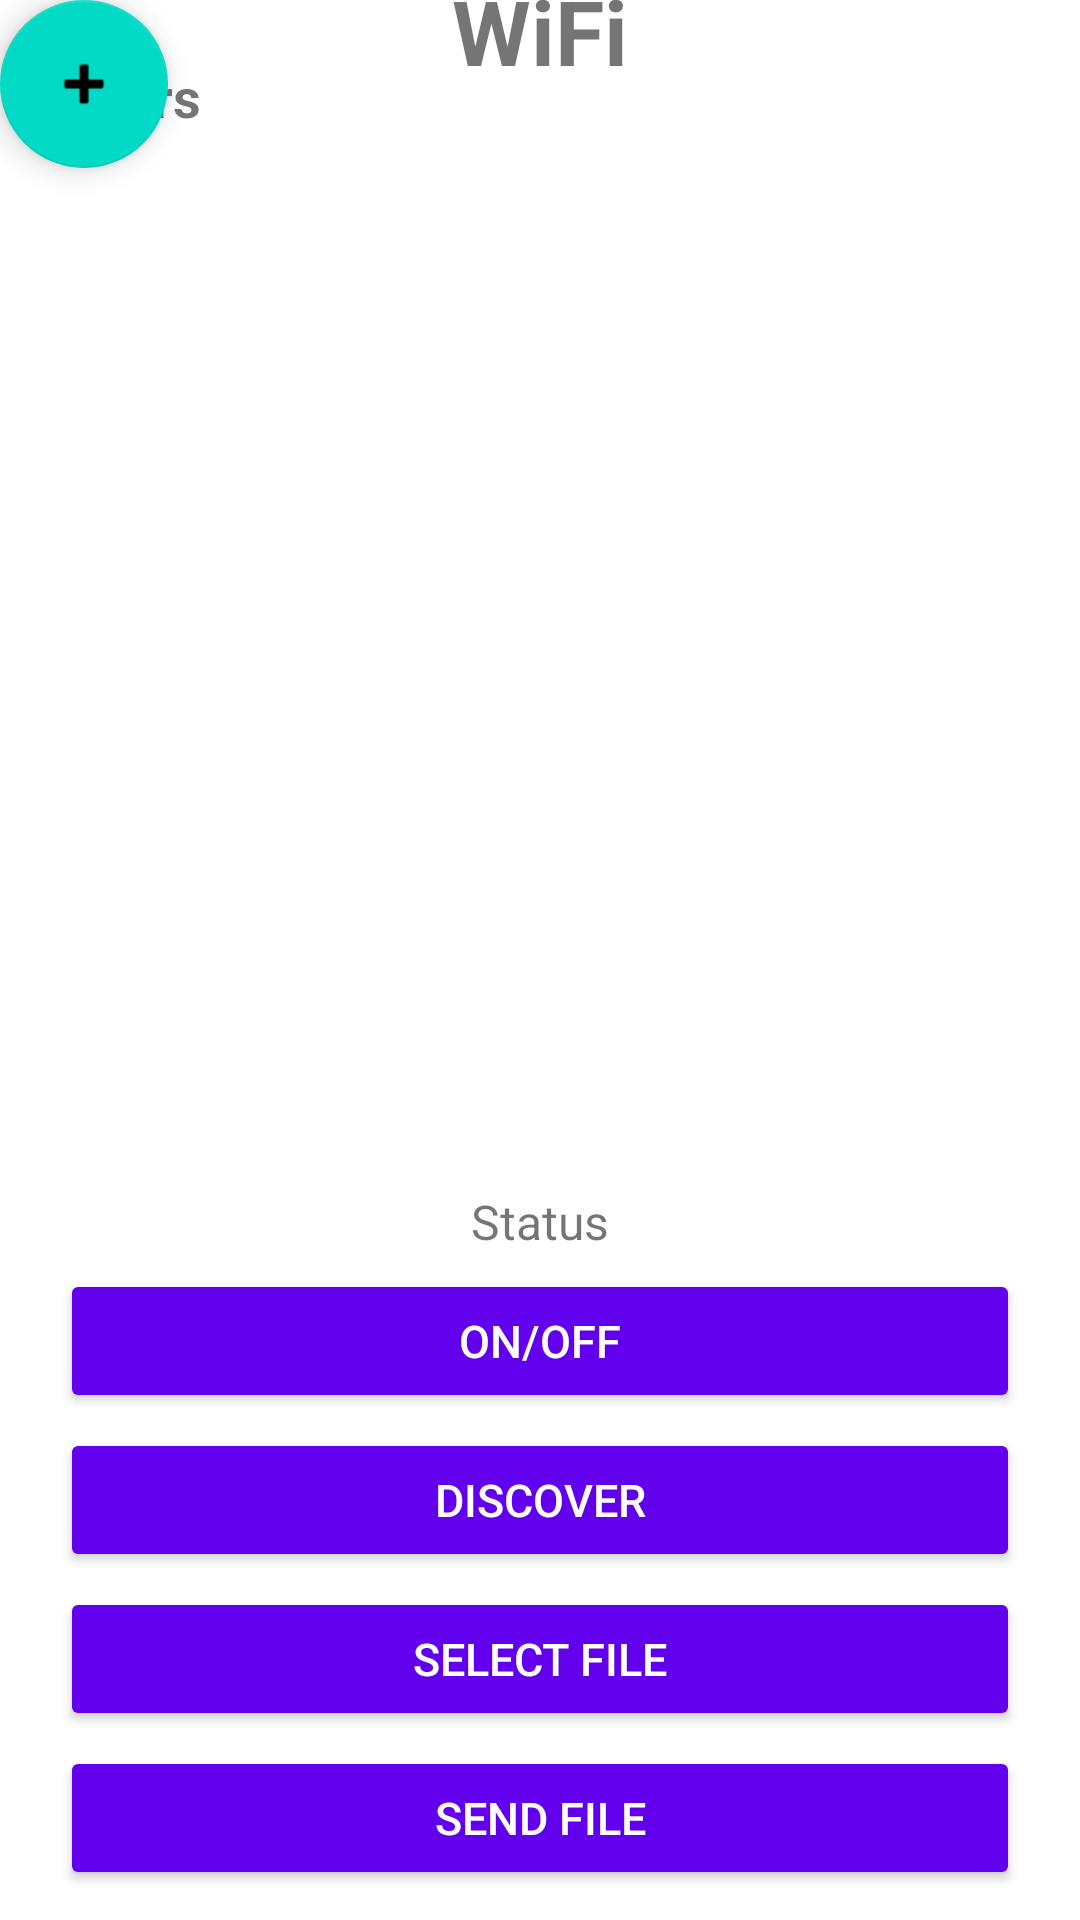

Icon bounding boxes for this 1080 × 1920 phone screenshot, format box(x1, y1, x2, y2):
Floating Action Button: box(0, 0, 168, 168)
